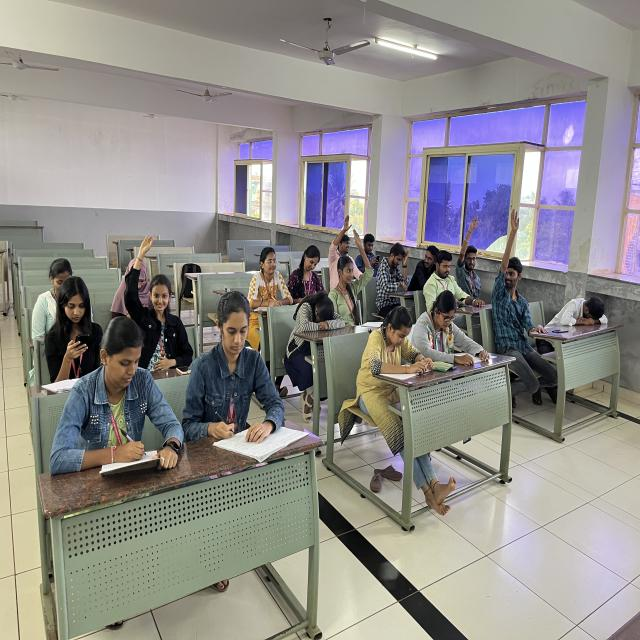Hand Rising: (123, 229, 199, 365), (488, 204, 541, 344), (335, 224, 371, 313), (451, 212, 484, 299), (328, 211, 360, 275)
Reading: (411, 288, 495, 370), (348, 304, 430, 379)
Sleeping: (279, 296, 345, 353), (546, 288, 614, 336)
Using Phone: (424, 253, 472, 311), (357, 226, 387, 272)
Writing: (45, 315, 178, 485), (179, 283, 288, 432), (244, 245, 294, 312), (289, 243, 329, 306)
